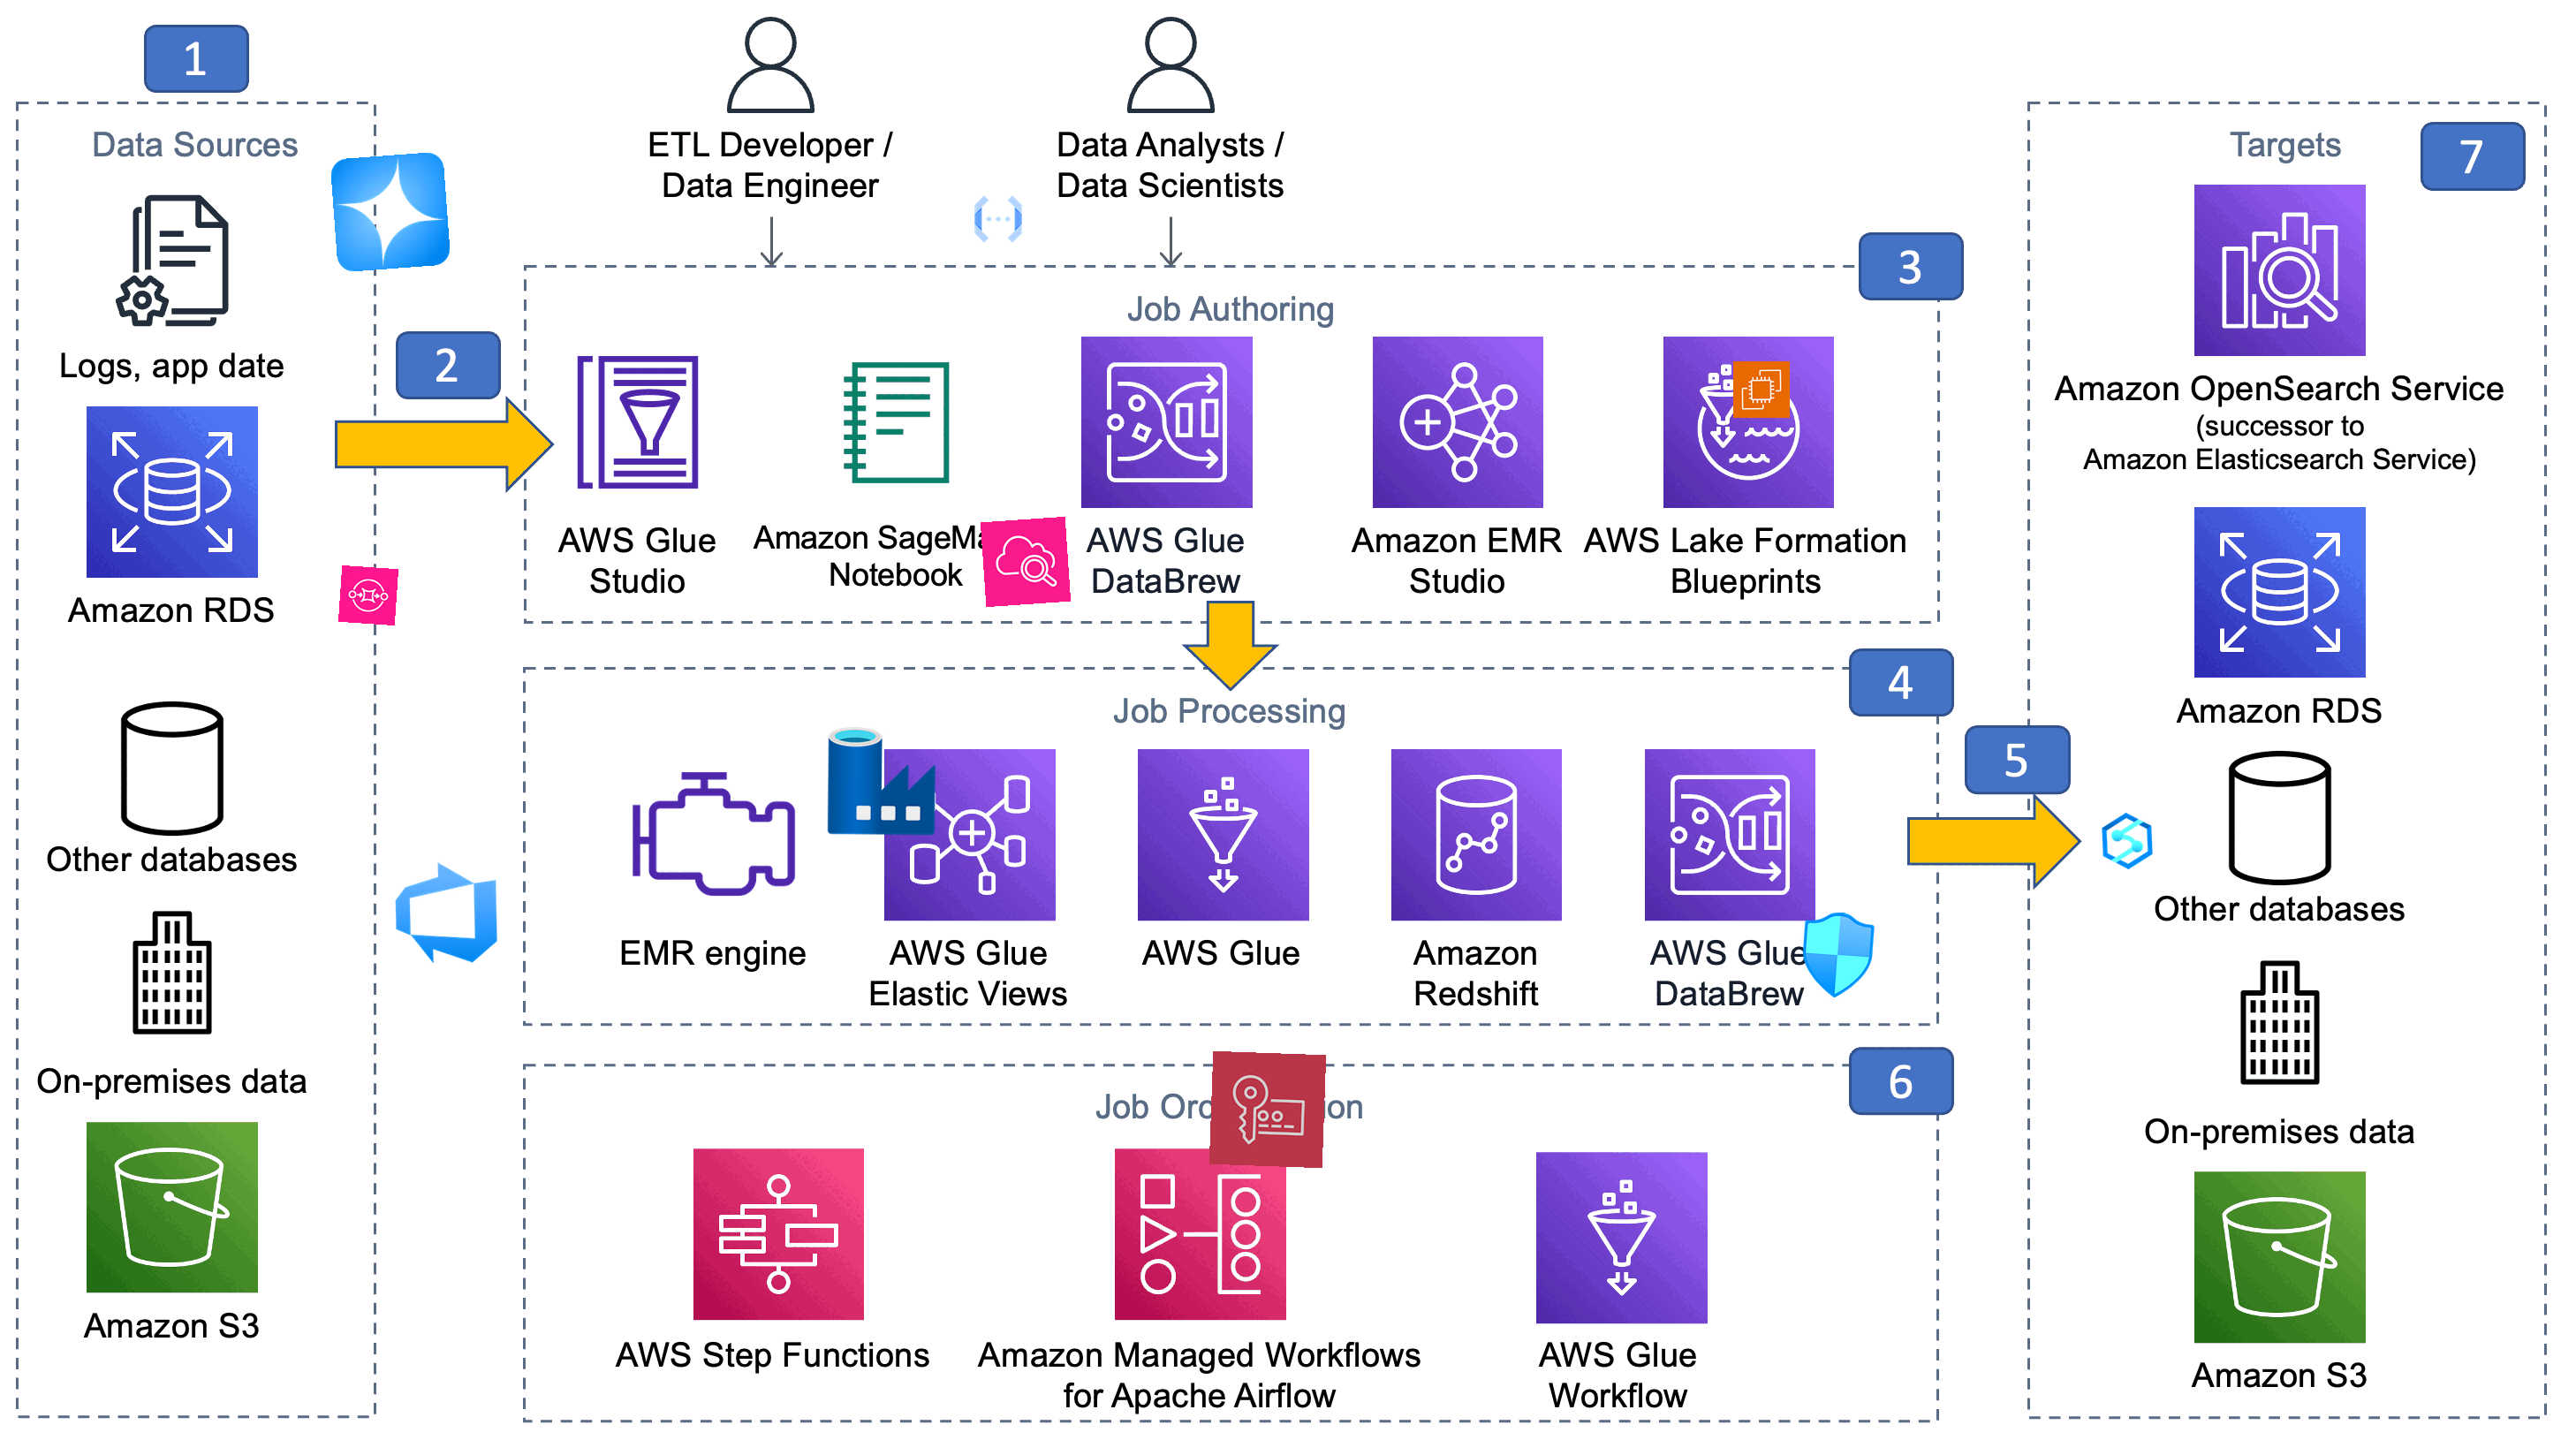aws_amazon_cloudwatch: (980, 517, 1072, 609)
aws_amazon_ec2: (1732, 361, 1790, 419)
aws_amazon_simple_queue_service: (338, 564, 400, 626)
aws_key_management_service: (1208, 1051, 1327, 1169)
azure_data_factories: (824, 724, 939, 839)
azure_devops: (387, 854, 504, 971)
azure_network_security_groups: (1792, 909, 1884, 1001)
azure_openai: (329, 150, 451, 272)
azure_synapse_analytics: (2097, 810, 2157, 870)
gcp_cloud_functions: (970, 189, 1028, 248)
